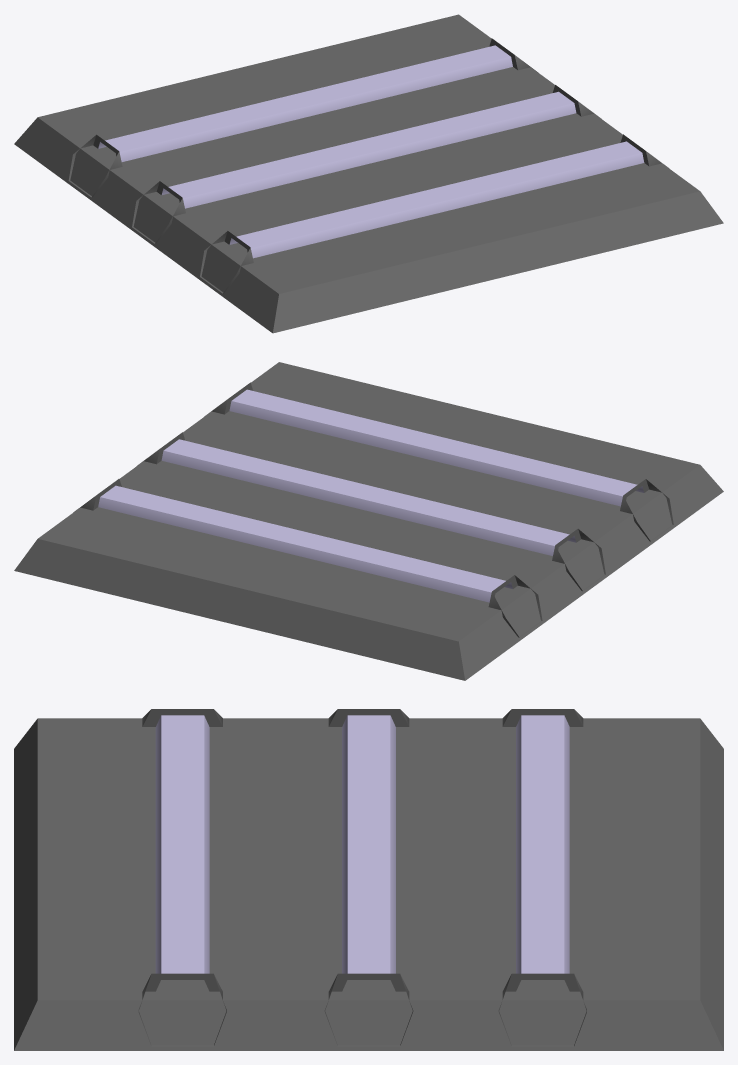
Rendered from SM_Celing_Light.fbx.
3 views of the same model, one above another, from view 1: azimuth 30°, elevation 25°; view 2: azimuth 150°, elevation 25°; view 3: azimuth 270°, elevation 25° (orthographic). The views are drawn at different scales.
Parts seen in each view (by area): view 1: SM_Celing_Light; view 2: SM_Celing_Light; view 3: SM_Celing_Light.
Boxes of the visible parts, x1,y1,x2,y2 form: SM_Celing_Light: (14,14,723,333); SM_Celing_Light: (14,362,723,680); SM_Celing_Light: (14,709,723,1050).
Size of the model in its own units: 0.7733 by 0.0698 by 0.768.
